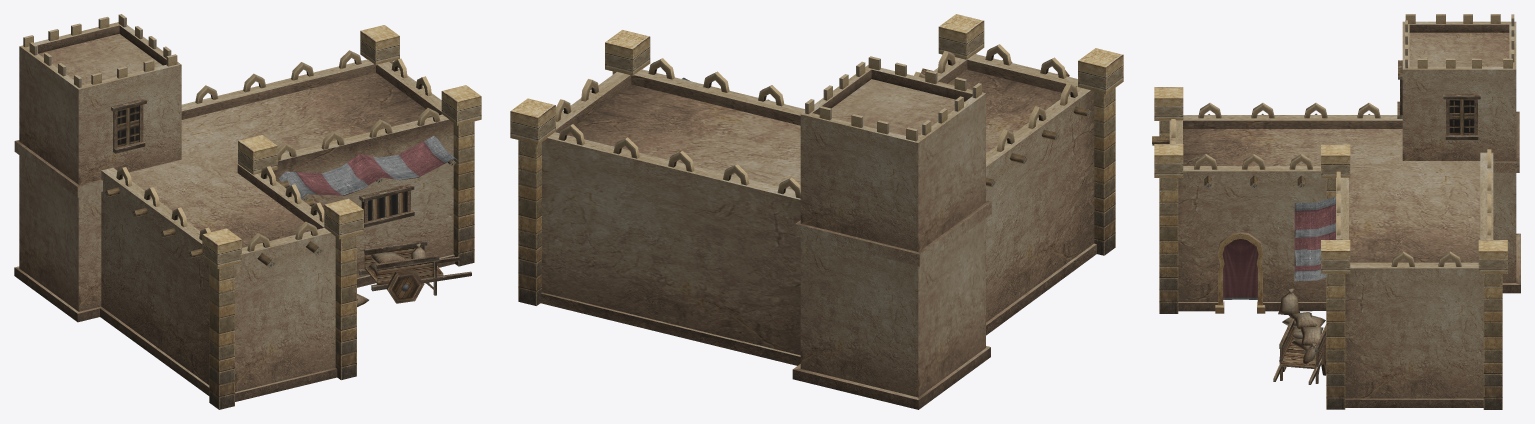
Rendered from SC_tamalagebi_21.FBX.
3 views of the same model, side by side, from view 1: azimuth 30°, elevation 25°; view 2: azimuth 150°, elevation 25°; view 3: azimuth 270°, elevation 25° (orthographic). The views are drawn at different scales.
Visible parts, largest first — view 1: SC_tamalagebi_21; view 2: SC_tamalagebi_21; view 3: SC_tamalagebi_21.
Part boxes in pixels (x1,y1,x2,y2): SC_tamalagebi_21: [14, 14, 481, 409]; SC_tamalagebi_21: [510, 14, 1123, 409]; SC_tamalagebi_21: [1152, 14, 1520, 409].
Size of the model in its own units: 1175 by 743 by 1075.
